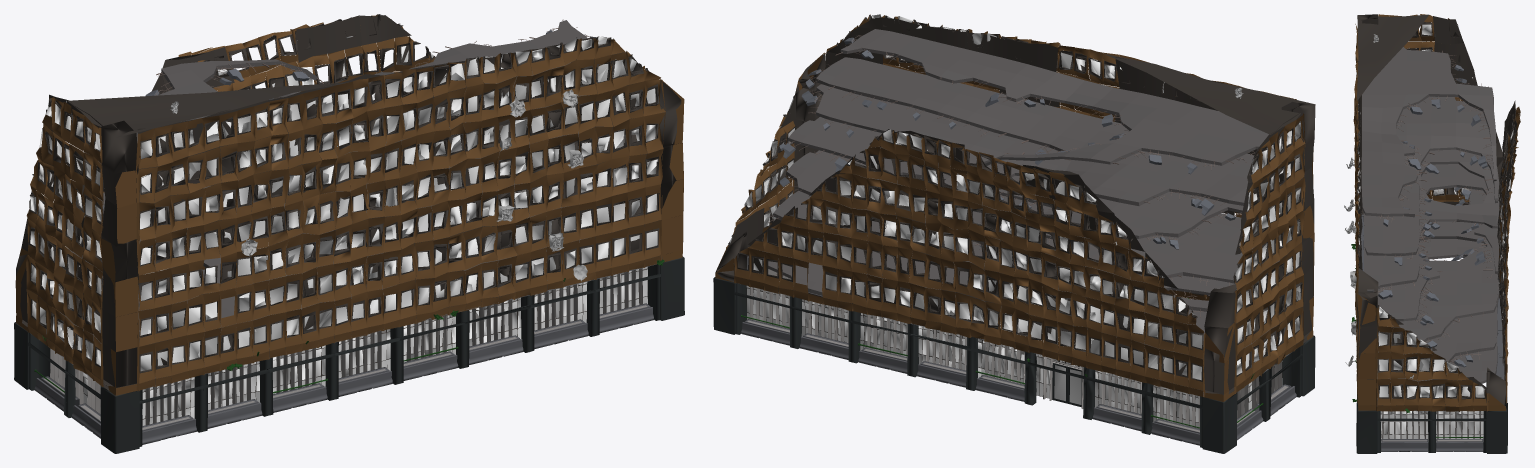
Rendered from 03_present01.fbx.
The picture shows the model from 3 angles, left to right: view 1: azimuth 30°, elevation 25°; view 2: azimuth 150°, elevation 25°; view 3: azimuth 270°, elevation 25°; orthographic projection. The views are drawn at different scales.
Parts seen in each view (by area): view 1: 03_ground_floor_wall_01.008; view 2: 03_ground_floor_wall_01.008; view 3: 03_ground_floor_wall_01.008.
Boxes of the visible parts, left/top/right/bottom form: 03_ground_floor_wall_01.008: left=14, top=14, right=684, bottom=453; 03_ground_floor_wall_01.008: left=713, top=14, right=1315, bottom=453; 03_ground_floor_wall_01.008: left=1344, top=14, right=1520, bottom=453.
Bounding box in the file's own units: 5149 × 2759 × 1833.
